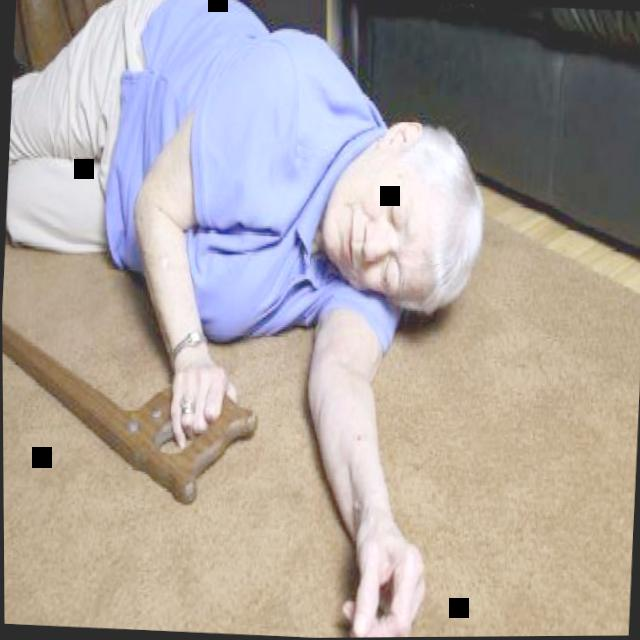Fall-Detected: (0, 0, 491, 640)
